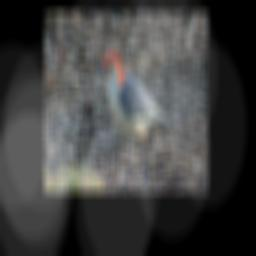Woodpecker: (92, 55, 170, 155)
